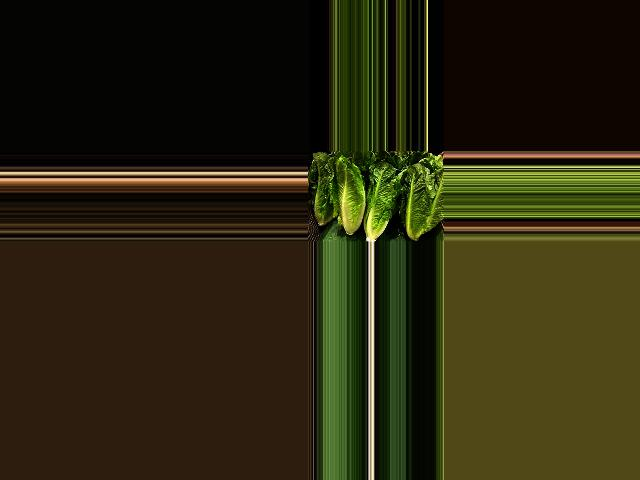lettuce: (313, 151, 335, 223)
